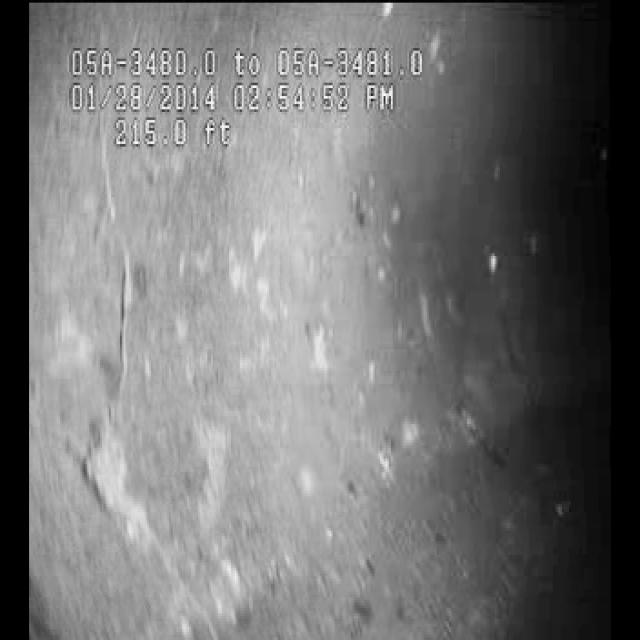Crack: (66, 200, 165, 520)
